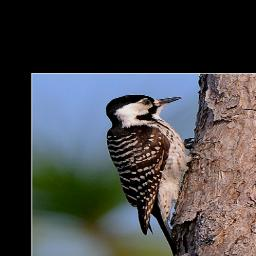Woodpecker: (100, 90, 201, 256)
